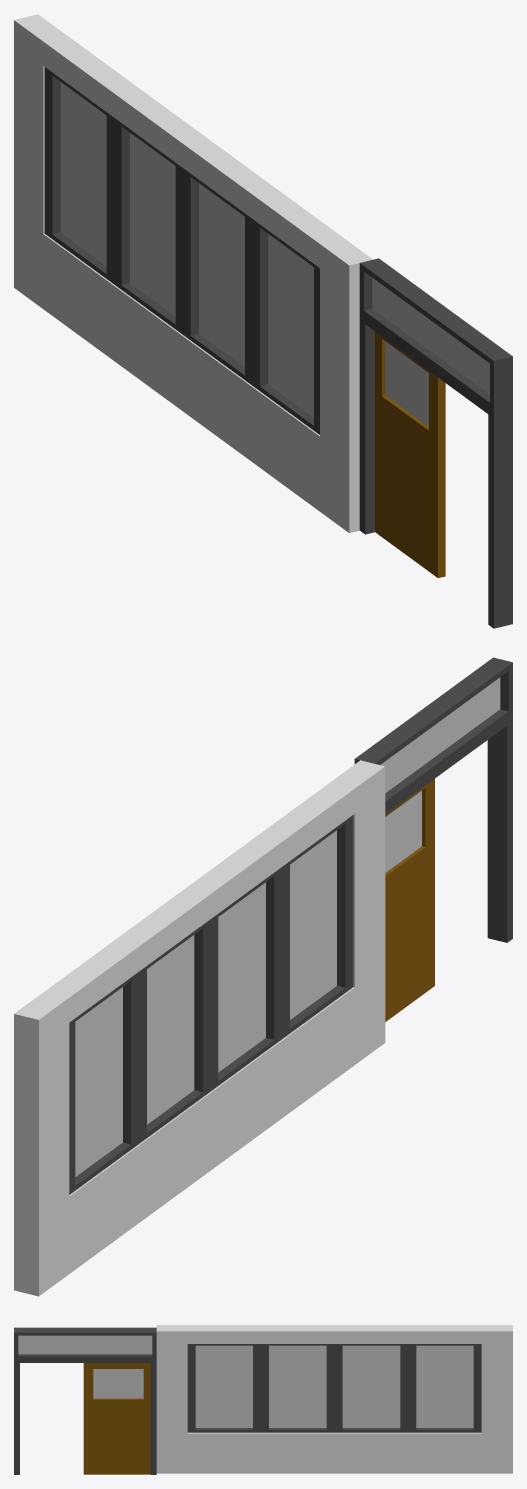
The model's file is SchoolDoorsAndFrame.fbx.
3 renders of one model, top to bottom at view 1: azimuth 30°, elevation 25°; view 2: azimuth 150°, elevation 25°; view 3: azimuth 270°, elevation 25°, orthographic. The views are drawn at different scales.
Visible parts, largest first — view 1: ClassWindows, Frame, Door; view 2: ClassWindows, Frame, Door; view 3: ClassWindows, Door, Frame.
Boxes of the visible parts, x1,y1,x2,y2 form: ClassWindows: (14,14,372,532); Frame: (359,258,512,628); Door: (375,331,445,578); ClassWindows: (14,760,385,1296); Frame: (354,657,512,942); Door: (385,779,434,1021); ClassWindows: (156,1325,512,1473); Door: (83,1363,150,1474); Frame: (14,1327,156,1474).
Size of the model in its own units: 30.98 by 268 by 851.
